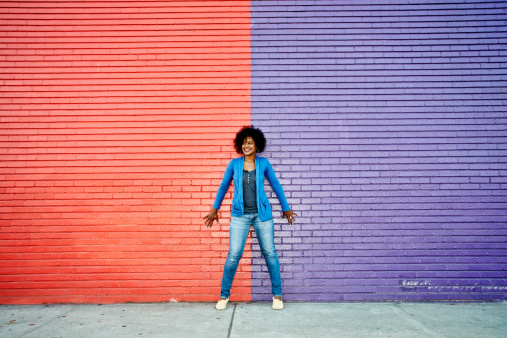em pe: (189, 127, 301, 297)
